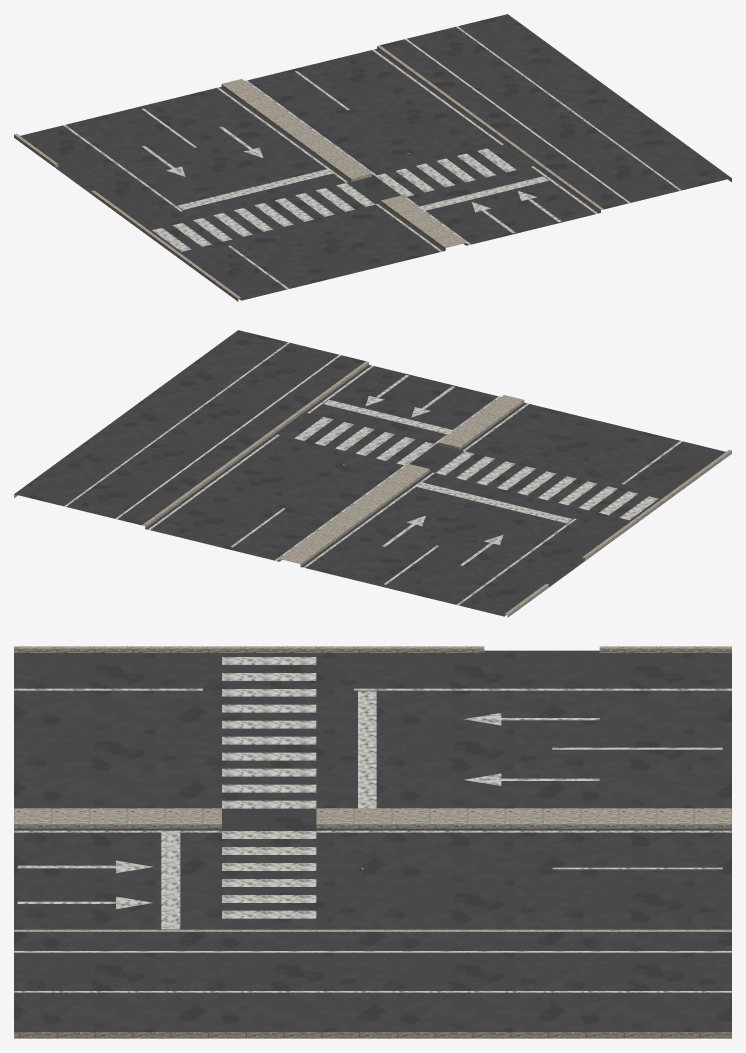
Rendered from SM_Viale_Italia_Incrocio_LOD1.fbx.
3 views of the same model, one above another, from view 1: azimuth 30°, elevation 25°; view 2: azimuth 150°, elevation 25°; view 3: azimuth 270°, elevation 25° (orthographic). The views are drawn at different scales.
Parts seen in each view (by area): view 1: SM_Viale_Italia_Incrocio_LOD1; view 2: SM_Viale_Italia_Incrocio_LOD1; view 3: SM_Viale_Italia_Incrocio_LOD1.
Part boxes in pixels (left/top/right/bottom): SM_Viale_Italia_Incrocio_LOD1: left=14, top=14, right=731, bottom=301; SM_Viale_Italia_Incrocio_LOD1: left=14, top=330, right=731, bottom=617; SM_Viale_Italia_Incrocio_LOD1: left=14, top=646, right=731, bottom=1038.
Bounding box in the file's own units: 2415 × 1900 × 20.5.
3 materials, 3 textured.
